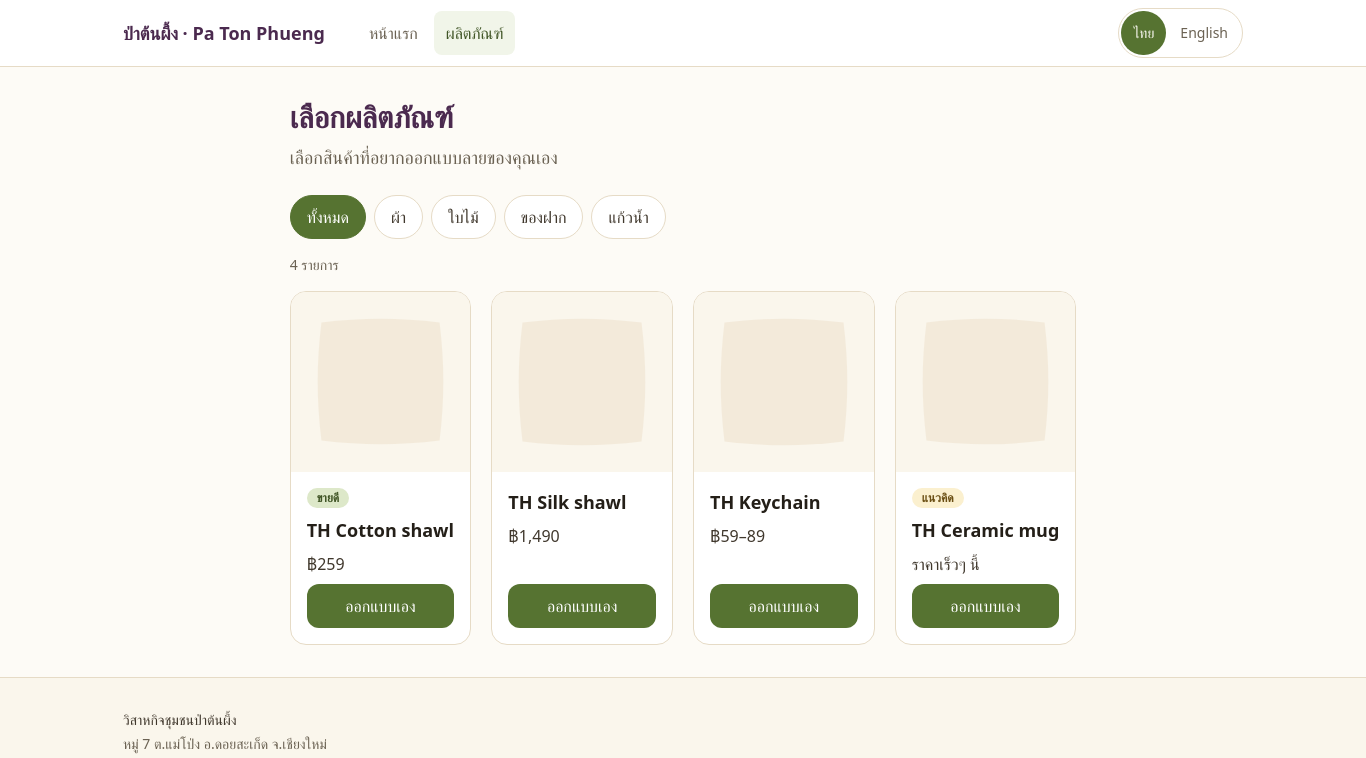
Test case: the line filter › shows an empty state for a line with no products
The image size is (1366, 758).
Click the button "ใบไม้".
click(463, 217)  # box [431,195,496,239]
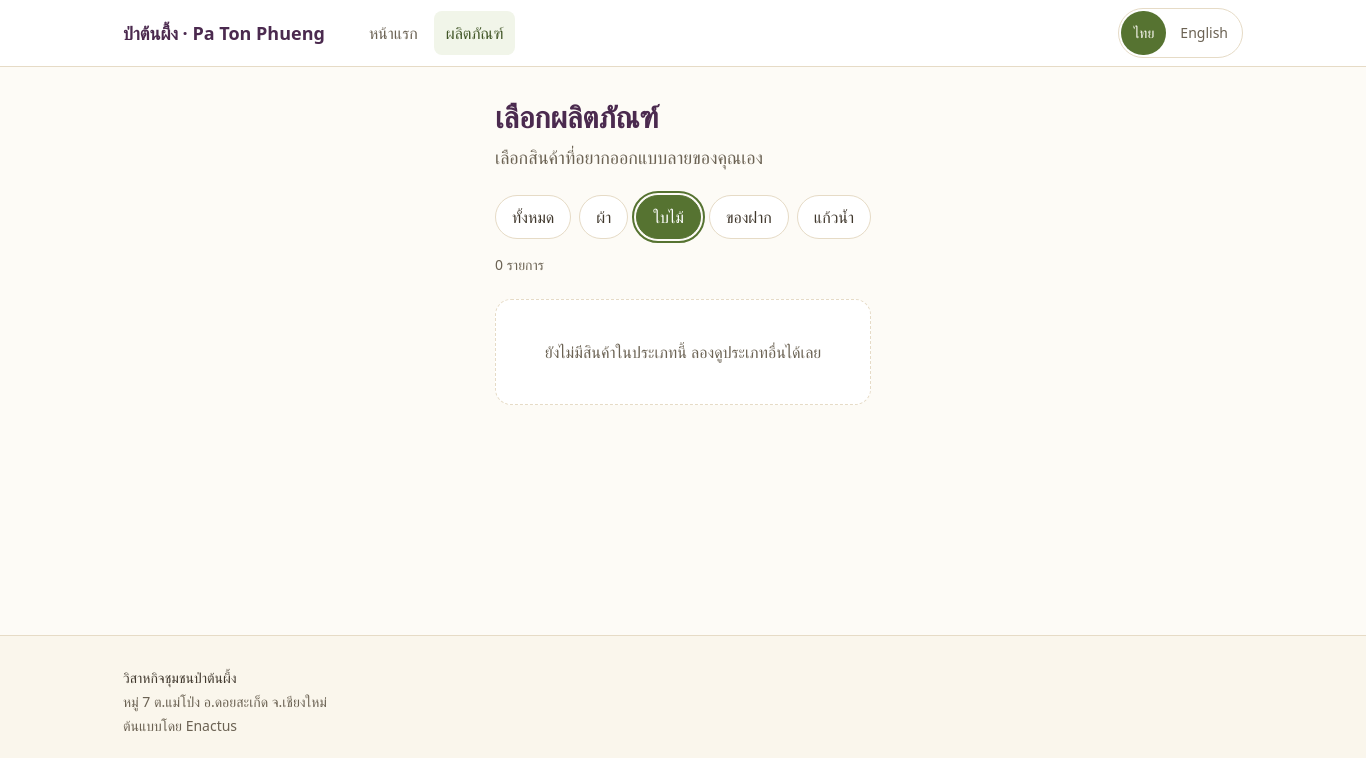
Result: the text "ยังไม่มีสินค้าในประเภทนี้ ลองดูประเภทอื่นได้เลย" is shown at [495,299,871,405]
Result: the heading "TH Cotton shawl" is gone
